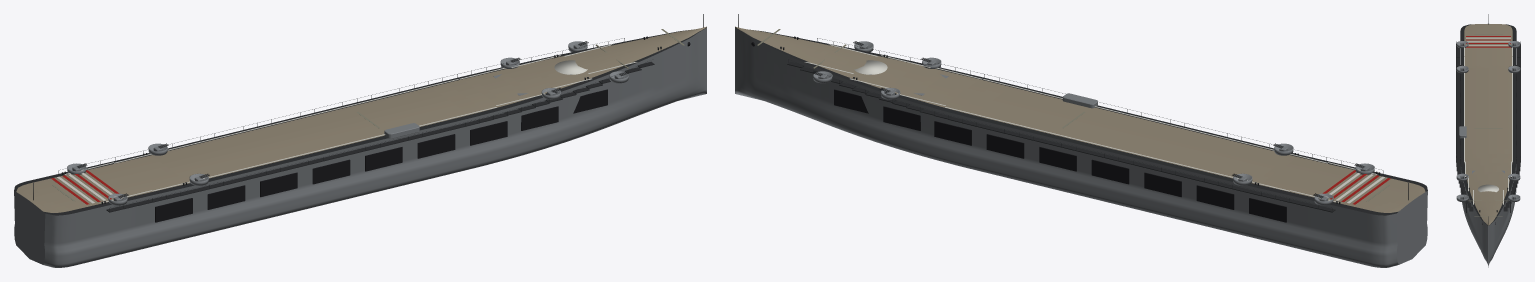
File: chitose.glb
The picture shows the model from 3 angles, left to right: view 1: azimuth 30°, elevation 25°; view 2: azimuth 150°, elevation 25°; view 3: azimuth 270°, elevation 25°; orthographic projection. The views are drawn at different scales.
Visible parts, largest first — view 1: chitose; view 2: chitose; view 3: chitose.
Part boxes in pixels (left/top/right/bottom): chitose: left=14, top=14, right=706, bottom=267; chitose: left=735, top=14, right=1427, bottom=267; chitose: left=1456, top=14, right=1520, bottom=267.
Size of the model in its own units: 192 by 21.91 by 25.4.
